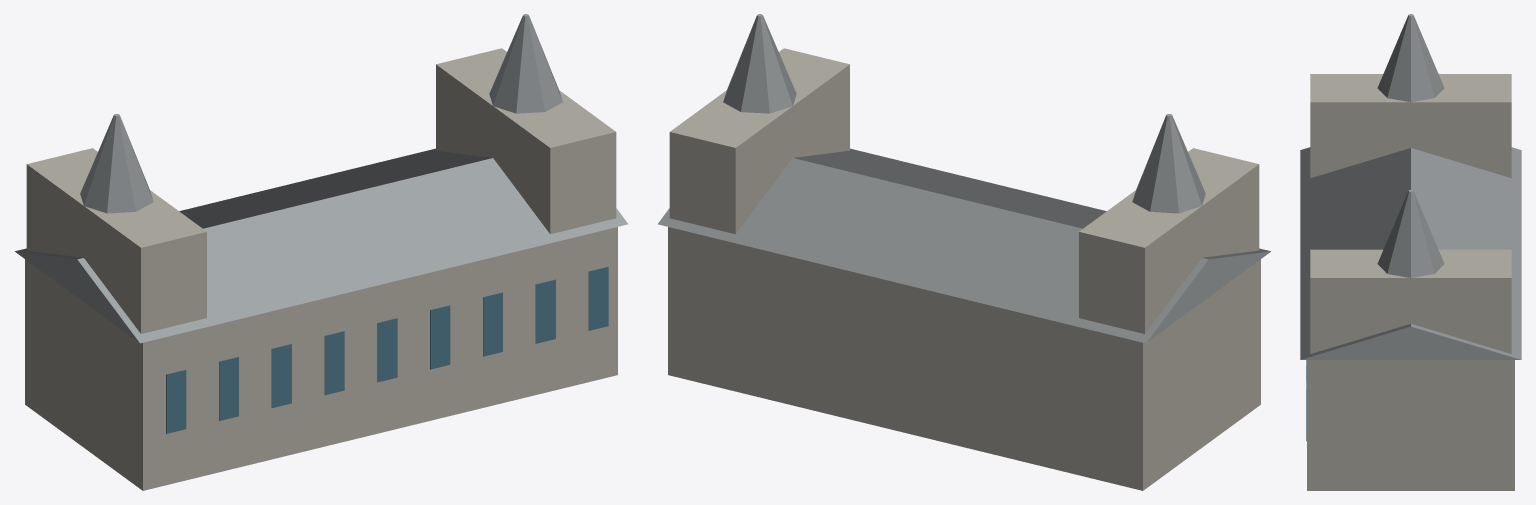
The model's file is source.glb.
The picture shows the model from 3 angles, left to right: view 1: azimuth 30°, elevation 25°; view 2: azimuth 150°, elevation 25°; view 3: azimuth 270°, elevation 25°; orthographic projection. The views are drawn at different scales.
Parts seen in each view (by area): view 1: worldgen; view 2: worldgen; view 3: worldgen.
Part boxes in pixels (x1,y1,x2,y2): worldgen: (15, 14, 627, 490); worldgen: (658, 14, 1270, 490); worldgen: (1300, 14, 1521, 490).
Bounding box in the file's own units: 74 × 47 × 33.
